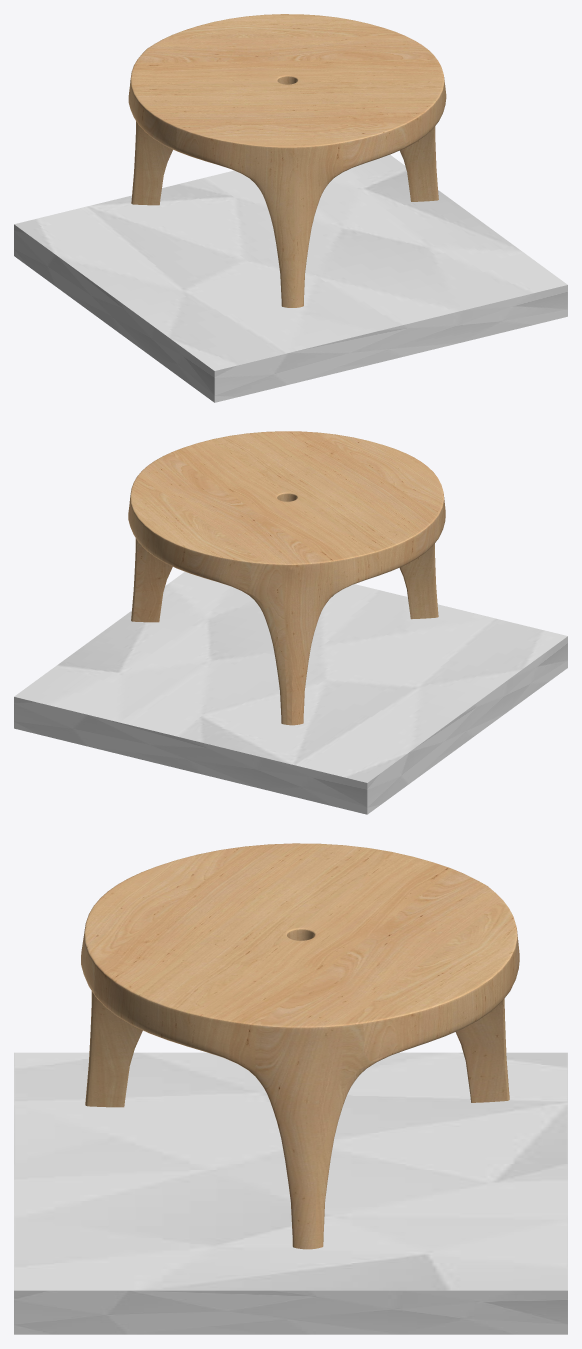
The model's file is mesa.DAE.
3 renders of one model, top to bottom at view 1: azimuth 30°, elevation 25°; view 2: azimuth 150°, elevation 25°; view 3: azimuth 270°, elevation 25°, orthographic. The views are drawn at different scales.
Visible parts, largest first — view 1: Box001, Tavolino00; view 2: Box001, Tavolino00; view 3: Box001, Tavolino00.
Boxes of the visible parts, bbox=[...] form: Box001: bbox=[14, 154, 567, 402]; Tavolino00: bbox=[128, 14, 446, 307]; Box001: bbox=[14, 571, 567, 814]; Tavolino00: bbox=[128, 431, 445, 725]; Box001: bbox=[14, 1052, 567, 1334]; Tavolino00: bbox=[81, 843, 519, 1249].
Size of the model in its own units: 132 by 130 by 72.93.
2 materials, 2 textured.
